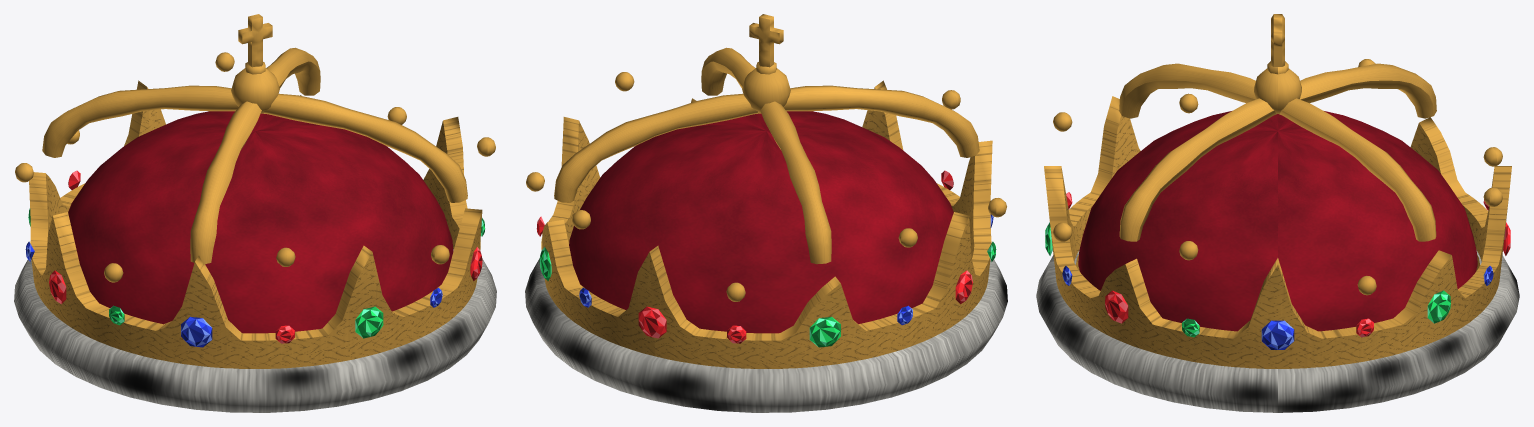
The model's file is JeweledCrown.glb.
3 renders of one model, left to right at view 1: azimuth 30°, elevation 25°; view 2: azimuth 150°, elevation 25°; view 3: azimuth 270°, elevation 25°, orthographic.
Parts seen in each view (by area): view 1: JeweledCrown; view 2: JeweledCrown; view 3: JeweledCrown.
Part boxes in pixels (left/top/right/bottom): JeweledCrown: left=14, top=14, right=496, bottom=412; JeweledCrown: left=525, top=14, right=1007, bottom=412; JeweledCrown: left=1036, top=14, right=1519, bottom=412.
Size of the model in its own units: 1.38 by 0.96 by 1.38.
1 material, 1 textured.
